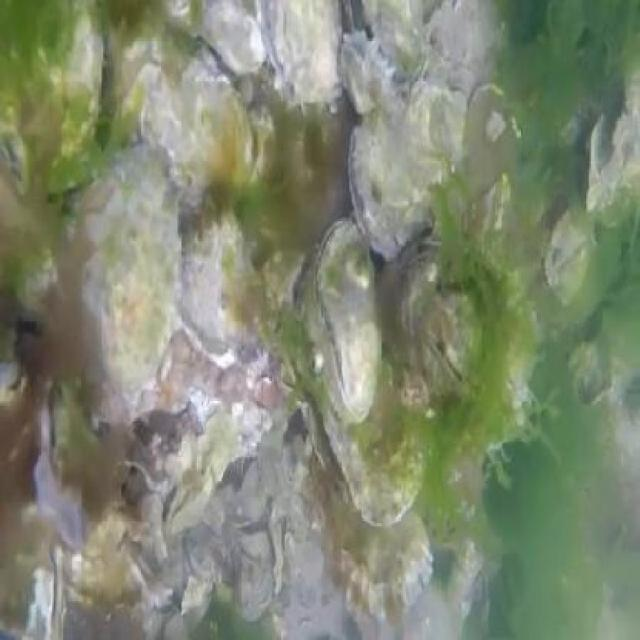Oyster-Closed: (348, 52, 467, 266), (136, 46, 268, 219), (314, 219, 384, 424), (32, 372, 86, 548), (263, 0, 343, 110), (0, 519, 67, 640), (340, 33, 393, 118), (171, 473, 211, 539)
Oyster-Indeterminate: (77, 143, 183, 424), (315, 455, 430, 617), (546, 202, 599, 305), (199, 0, 267, 80)
Oyster-Open: (298, 281, 430, 520), (179, 213, 257, 366), (585, 67, 640, 211), (0, 356, 25, 404)
